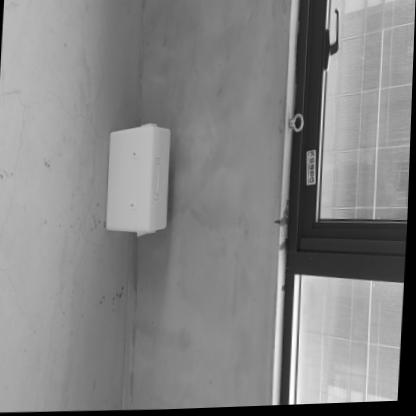DDL: (106, 124, 173, 237)
